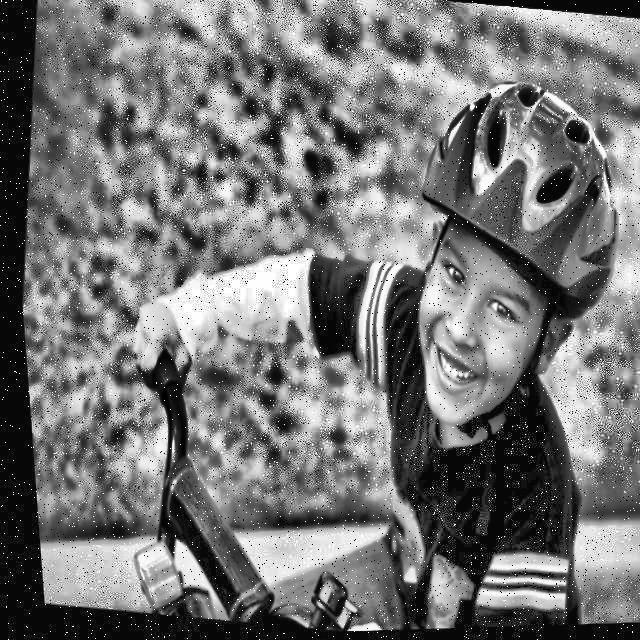Helmet: (373, 66, 640, 462)
